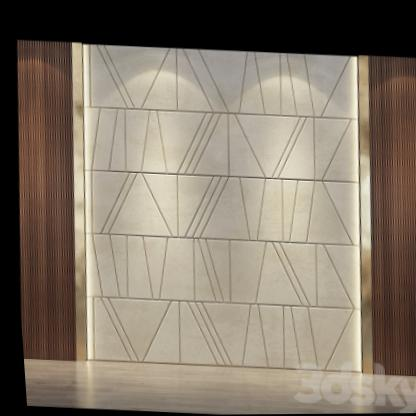Wall Panel: (2, 33, 416, 384)
